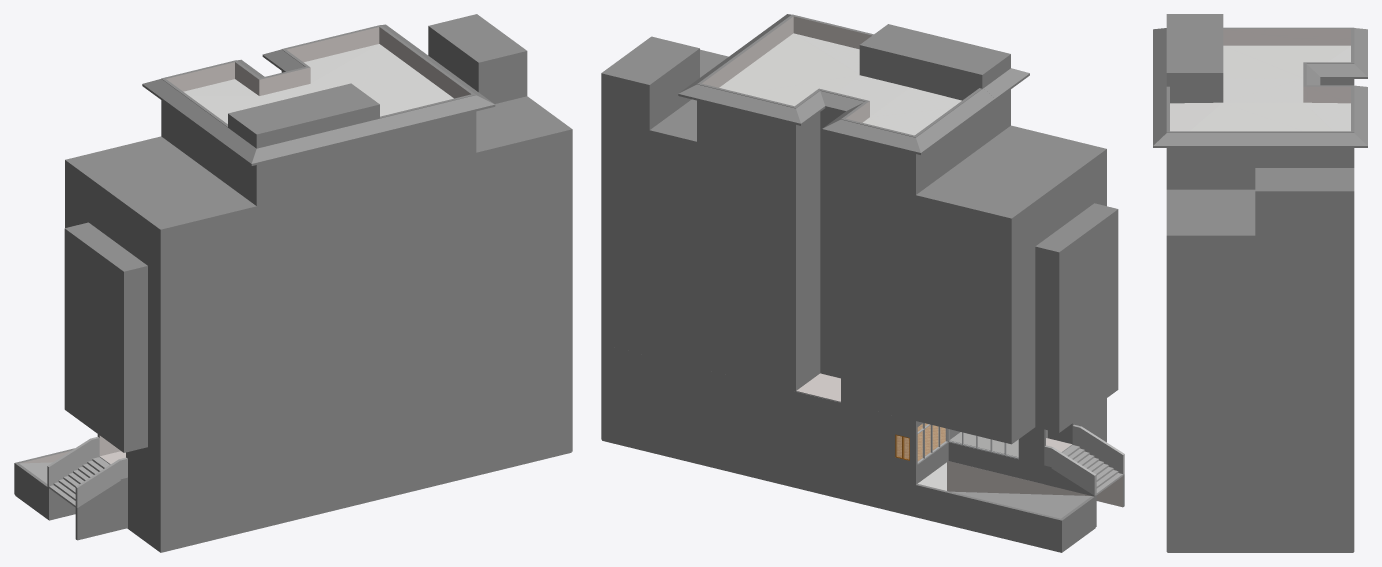
Rendered from LuuMongHuyen-ThietKeCoSo.glb.
3 views of the same model, side by side, from view 1: azimuth 30°, elevation 25°; view 2: azimuth 150°, elevation 25°; view 3: azimuth 270°, elevation 25° (orthographic).
Visible parts, largest first — view 1: 4c05011a-533f-4aa2-a184-7fc30420017d-000572b4, aad92c09-7298-4d76-8ca3-836e98d0b7bd-000561ce, 4c05011a-533f-4aa2-a184-7fc30420017d-00056a39, 4c05011a-533f-4aa2-a184-7fc30420017d-00056e56, 4c05011a-533f-4aa2-a184-7fc30420017d-00056e64, 4c05011a-533f-4aa2-a184-7fc30420017d-00056f8f, 9ff17cc3-c597-4858-9548-a7617f76a19b-00053e5e, 799a52e5-2333-484f-98e9-36851c5981a7-000581a3, 4c05011a-533f-4aa2-a184-7fc30420017d-00057852, aad92c09-7298-4d76-8ca3-836e98d0b7bd-0005595a, 49e83c4f-278c-4678-94aa-7cc7b347df1d-0005e5f1, a116e89c-72c9-452e-a07f-454650301917-0005e480 (+28 smaller); view 2: 9ff17cc3-c597-4858-9548-a7617f76a19b-00053d8b, aad92c09-7298-4d76-8ca3-836e98d0b7bd-000561cc, 49e83c4f-278c-4678-94aa-7cc7b347df1d-0005e5f1, 799a52e5-2333-484f-98e9-36851c5981a7-000581a3, 4c05011a-533f-4aa2-a184-7fc30420017d-000571e5, a9b69f0a-6963-4707-8ddd-9d8d099b7cbe-00056606, 4c05011a-533f-4aa2-a184-7fc30420017d-00056f8d, 4c05011a-533f-4aa2-a184-7fc30420017d-00056e62, 4c05011a-533f-4aa2-a184-7fc30420017d-00056e54, 4c05011a-533f-4aa2-a184-7fc30420017d-00057049, 4c05011a-533f-4aa2-a184-7fc30420017d-00056e50, 4c05011a-533f-4aa2-a184-7fc30420017d-00056f89 (+54 smaller); view 3: 49e83c4f-278c-4678-94aa-7cc7b347df1d-0005e5f1, 4c05011a-533f-4aa2-a184-7fc30420017d-0005725b, aad92c09-7298-4d76-8ca3-836e98d0b7bd-000561cd, 4c05011a-533f-4aa2-a184-7fc30420017d-00056e55, 4c05011a-533f-4aa2-a184-7fc30420017d-00056f8e, 4c05011a-533f-4aa2-a184-7fc30420017d-0005696e, 4c05011a-533f-4aa2-a184-7fc30420017d-00056e63, a116e89c-72c9-452e-a07f-454650301917-0005e480, 9ff17cc3-c597-4858-9548-a7617f76a19b-00053ddc, 4c05011a-533f-4aa2-a184-7fc30420017d-000577ec, 799a52e5-2333-484f-98e9-36851c5981a7-000581a3, 9669b317-8e9a-476e-8692-34f872f75eea-0005f64a (+7 smaller).
Boxes of the visible parts, box(x1,y1,x2,y2) form: 4c05011a-533f-4aa2-a184-7fc30420017d-000572b4: box(159, 128, 569, 274); aad92c09-7298-4d76-8ca3-836e98d0b7bd-000561ce: box(159, 356, 569, 501); 4c05011a-533f-4aa2-a184-7fc30420017d-00056a39: box(159, 311, 569, 456); 4c05011a-533f-4aa2-a184-7fc30420017d-00056e56: box(159, 266, 569, 410); 4c05011a-533f-4aa2-a184-7fc30420017d-00056e64: box(159, 220, 569, 365); 4c05011a-533f-4aa2-a184-7fc30420017d-00056f8f: box(159, 175, 569, 320); 9ff17cc3-c597-4858-9548-a7617f76a19b-00053e5e: box(159, 421, 569, 551); 799a52e5-2333-484f-98e9-36851c5981a7-000581a3: box(69, 97, 567, 227); 4c05011a-533f-4aa2-a184-7fc30420017d-00057852: box(255, 113, 473, 205); aad92c09-7298-4d76-8ca3-836e98d0b7bd-0005595a: box(159, 402, 569, 520); 49e83c4f-278c-4678-94aa-7cc7b347df1d-0005e5f1: box(183, 44, 453, 123); a116e89c-72c9-452e-a07f-454650301917-0005e480: box(142, 24, 495, 165); 9ff17cc3-c597-4858-9548-a7617f76a19b-00053d8b: box(601, 408, 1063, 551); aad92c09-7298-4d76-8ca3-836e98d0b7bd-000561cc: box(601, 344, 917, 465); 49e83c4f-278c-4678-94aa-7cc7b347df1d-0005e5f1: box(719, 33, 961, 135); 799a52e5-2333-484f-98e9-36851c5981a7-000581a3: box(652, 51, 1101, 216); 4c05011a-533f-4aa2-a184-7fc30420017d-000571e5: box(601, 118, 792, 210); a9b69f0a-6963-4707-8ddd-9d8d099b7cbe-00056606: box(601, 299, 792, 390); 4c05011a-533f-4aa2-a184-7fc30420017d-00056f8d: box(601, 163, 792, 255); 4c05011a-533f-4aa2-a184-7fc30420017d-00056e62: box(601, 209, 792, 300); 4c05011a-533f-4aa2-a184-7fc30420017d-00056e54: box(601, 254, 792, 345); 4c05011a-533f-4aa2-a184-7fc30420017d-00057049: box(841, 177, 1013, 263); 4c05011a-533f-4aa2-a184-7fc30420017d-00056e50: box(841, 312, 1013, 399); 4c05011a-533f-4aa2-a184-7fc30420017d-00056f89: box(841, 222, 1013, 308); 49e83c4f-278c-4678-94aa-7cc7b347df1d-0005e5f1: box(1170, 45, 1350, 131); 4c05011a-533f-4aa2-a184-7fc30420017d-0005725b: box(1166, 234, 1350, 279); aad92c09-7298-4d76-8ca3-836e98d0b7bd-000561cd: box(1166, 458, 1350, 502); 4c05011a-533f-4aa2-a184-7fc30420017d-00056e55: box(1166, 369, 1350, 413); 4c05011a-533f-4aa2-a184-7fc30420017d-00056f8e: box(1166, 280, 1350, 324); 4c05011a-533f-4aa2-a184-7fc30420017d-0005696e: box(1166, 413, 1350, 457); 4c05011a-533f-4aa2-a184-7fc30420017d-00056e63: box(1166, 324, 1350, 368); a116e89c-72c9-452e-a07f-454650301917-0005e480: box(1153, 28, 1367, 147); 9ff17cc3-c597-4858-9548-a7617f76a19b-00053ddc: box(1166, 521, 1350, 551); 4c05011a-533f-4aa2-a184-7fc30420017d-000577ec: box(1166, 150, 1350, 189); 799a52e5-2333-484f-98e9-36851c5981a7-000581a3: box(1169, 189, 1255, 234); 9669b317-8e9a-476e-8692-34f872f75eea-0005f64a: box(1255, 196, 1350, 235).
Bounding box in the file's own units: 38.44 × 31.4 × 15.76.
Materials: 17 (6 with a texture image).
